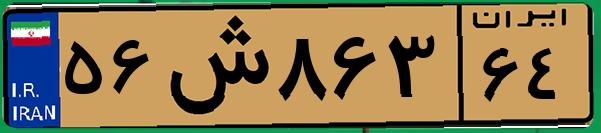3: (385, 28, 445, 110)
4: (525, 38, 570, 115)
5: (57, 26, 110, 100)
6: (330, 28, 385, 110), (475, 38, 525, 113), (110, 28, 158, 98)
8: (270, 28, 330, 110)
ش: (158, 12, 270, 120)
